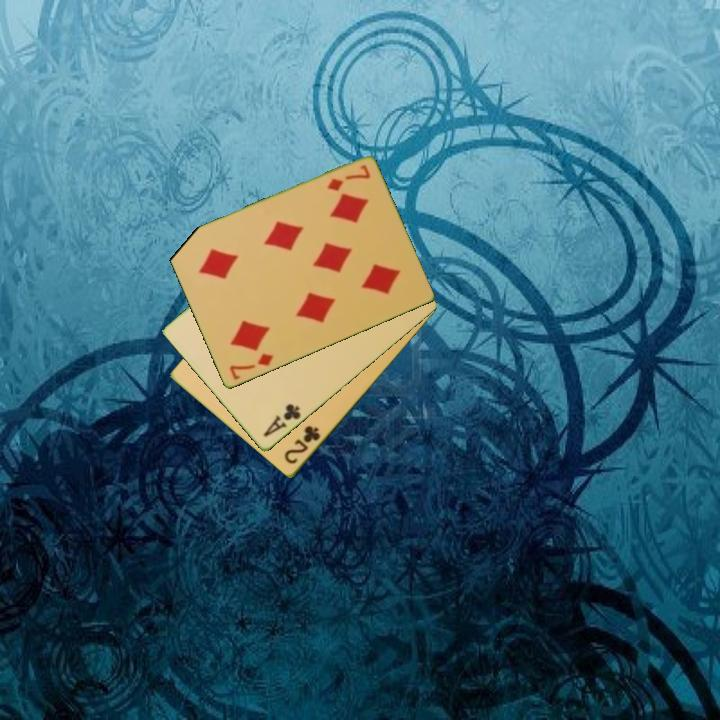2c: (281, 422, 323, 468)
7d: (226, 350, 276, 383), (324, 161, 373, 194)
Ac: (260, 400, 304, 440)
